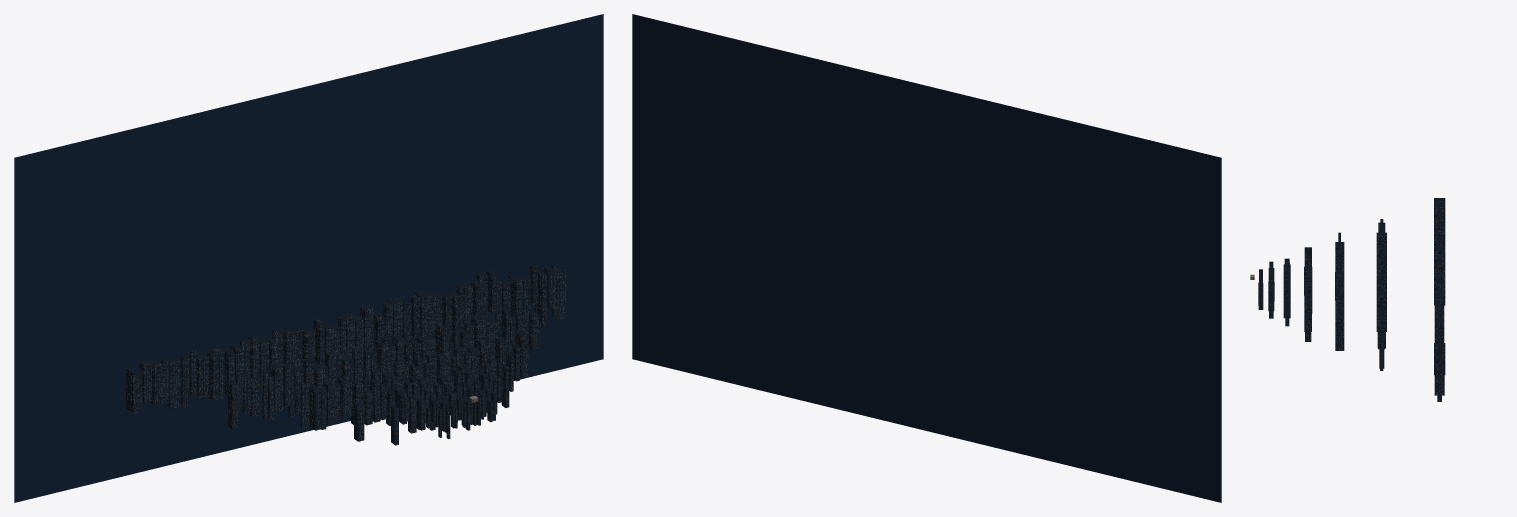
File: RAiM_NightOffice.fbx
3 renders of one model, left to right at view 1: azimuth 30°, elevation 25°; view 2: azimuth 150°, elevation 25°; view 3: azimuth 270°, elevation 25°, orthographic. The views are drawn at different scales.
Visible parts, largest first — view 1: EXT_Sky_Export, EXT_CityBand_180_Export, EXT_CityBand_125_Export, EXT_CityBand_85_Export, EXT_CityBand_55_Export, EXT_CityBand_35_Export, EXT_CityBand_10_Export, EXT_CityBand_20_Export; view 2: EXT_Sky_Export; view 3: EXT_CityBand_180_Export, EXT_CityBand_125_Export, EXT_CityBand_85_Export, EXT_CityBand_55_Export, EXT_CityBand_35_Export, EXT_CityBand_20_Export.
Part boxes in pixels (x1,y1,x2,y2): EXT_Sky_Export: (14,14,603,502); EXT_CityBand_180_Export: (126,263,566,413); EXT_CityBand_125_Export: (228,308,539,429); EXT_CityBand_85_Export: (300,330,527,430); EXT_CityBand_55_Export: (354,353,513,441); EXT_CityBand_35_Export: (391,371,501,445); EXT_CityBand_10_Export: (438,394,492,439); EXT_CityBand_20_Export: (418,386,495,432); EXT_Sky_Export: (632,14,1221,502); EXT_CityBand_180_Export: (1434,198,1445,401); EXT_CityBand_125_Export: (1376,219,1386,370); EXT_CityBand_85_Export: (1335,232,1344,350); EXT_CityBand_55_Export: (1304,247,1312,341); EXT_CityBand_35_Export: (1283,258,1290,326); EXT_CityBand_20_Export: (1268,261,1274,318).
Bounding box in the file's own units: 500 × 280 × 240.
22 materials, 6 textured.
